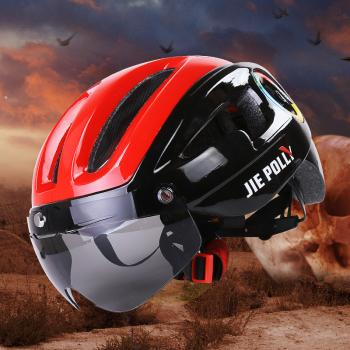with_helmet: (22, 51, 329, 318)
